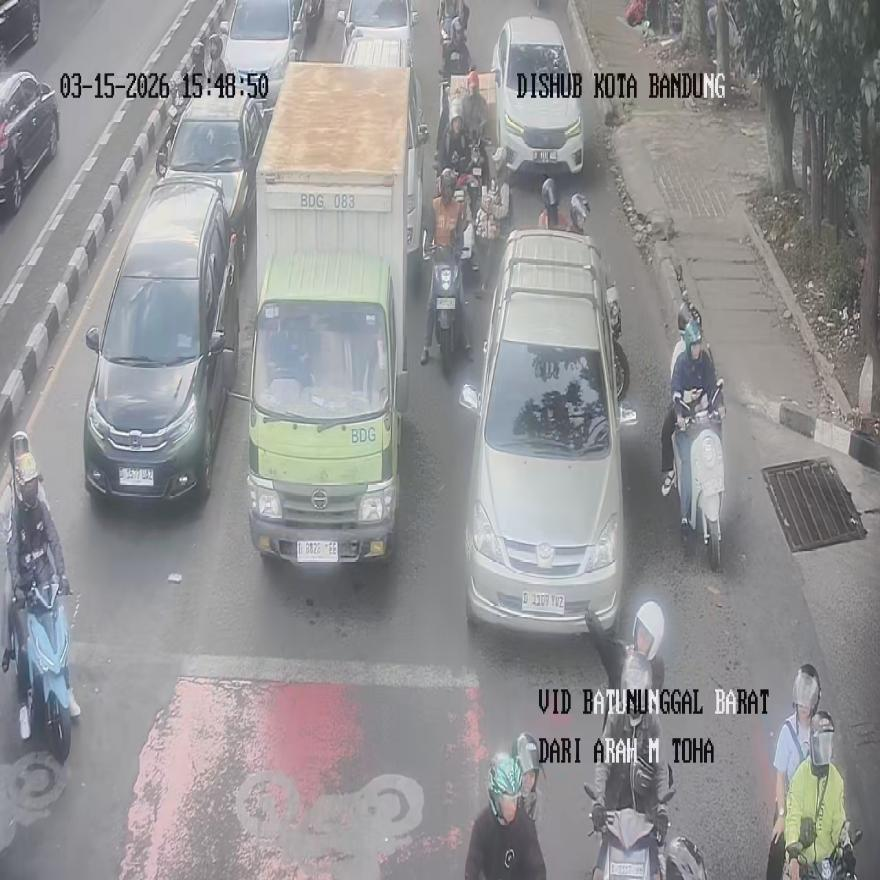Mobil: (458, 229, 638, 633), (82, 174, 239, 501), (341, 36, 429, 268), (157, 89, 264, 273), (492, 15, 584, 177), (220, 0, 304, 110), (0, 70, 59, 215), (337, 0, 418, 66)
Truk ringan: (237, 65, 430, 566)
